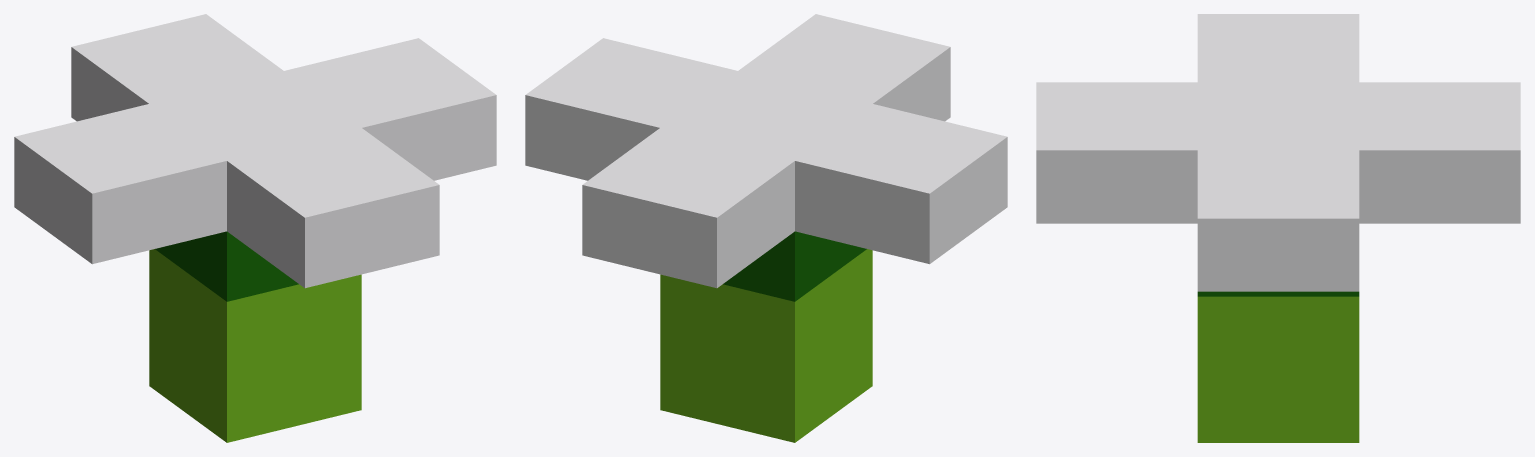
File: Medieval Assets-339-Vegetation - Flower - Base.obj
3 views of the same model, side by side, from view 1: azimuth 30°, elevation 25°; view 2: azimuth 150°, elevation 25°; view 3: azimuth 270°, elevation 25° (orthographic). The views are drawn at different scales.
Parts seen in each view (by area): view 1: Vegetation - Flower - Base; view 2: Vegetation - Flower - Base; view 3: Vegetation - Flower - Base.
Part boxes in pixels (x1,y1,x2,y2): Vegetation - Flower - Base: (14,14,496,442); Vegetation - Flower - Base: (525,14,1007,442); Vegetation - Flower - Base: (1036,14,1520,442).
Size of the model in its own units: 0.6 by 0.4 by 0.6.
Materials: 1 (1 with a texture image).
